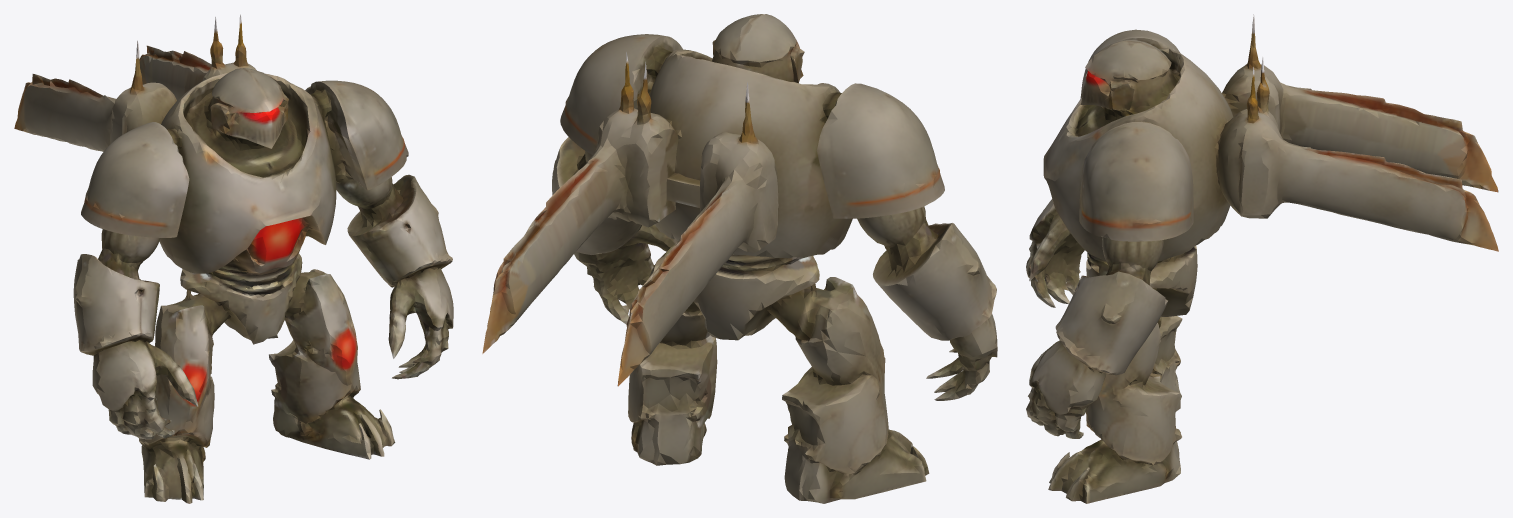
The model's file is tank.glb.
The picture shows the model from 3 angles, left to right: view 1: azimuth 30°, elevation 25°; view 2: azimuth 150°, elevation 25°; view 3: azimuth 270°, elevation 25°; orthographic projection. The views are drawn at different scales.
Parts seen in each view (by area): view 1: tank; view 2: tank; view 3: tank.
Boxes of the visible parts, bbox=[...] form: tank: bbox=[14, 14, 453, 503]; tank: bbox=[482, 14, 997, 503]; tank: bbox=[1026, 14, 1498, 503].
Size of the model in its own units: 1.51 by 1.52 by 1.62.
1 material, 1 textured.
